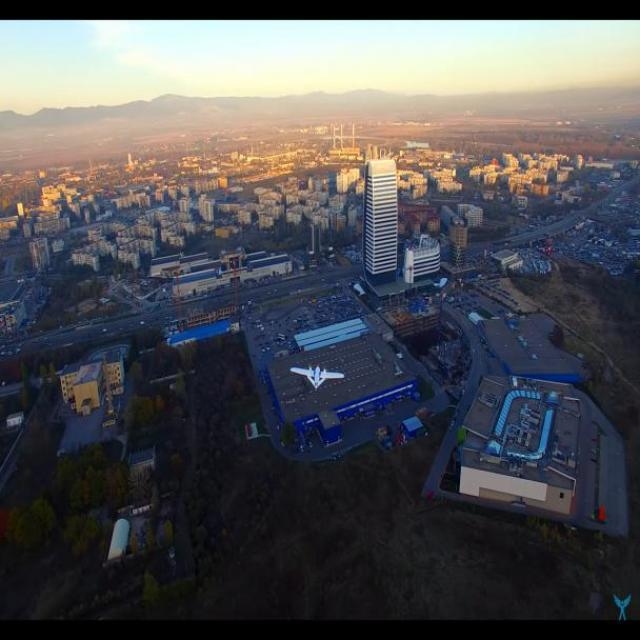iha: (298, 363, 340, 395)
